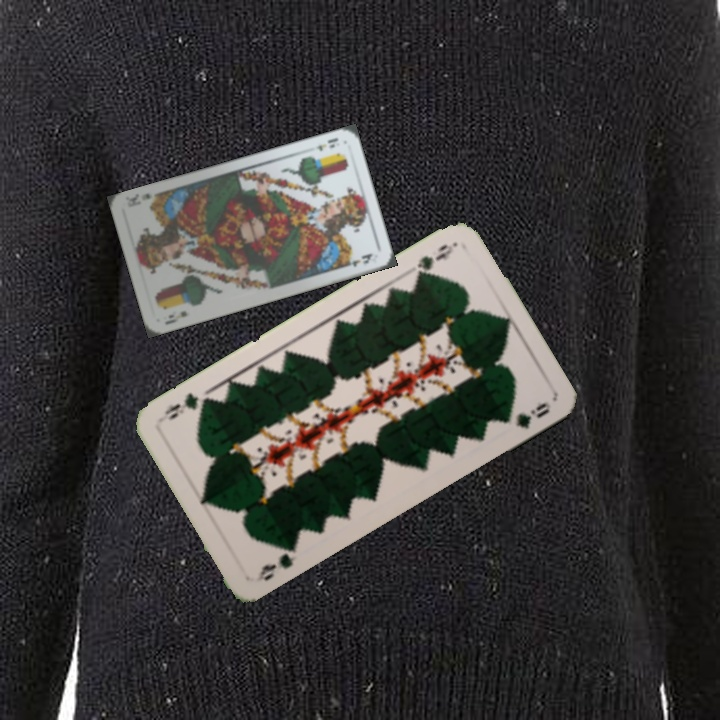EK: (304, 134, 340, 154), (161, 307, 190, 327)
G9: (251, 540, 300, 585), (412, 239, 458, 281)
